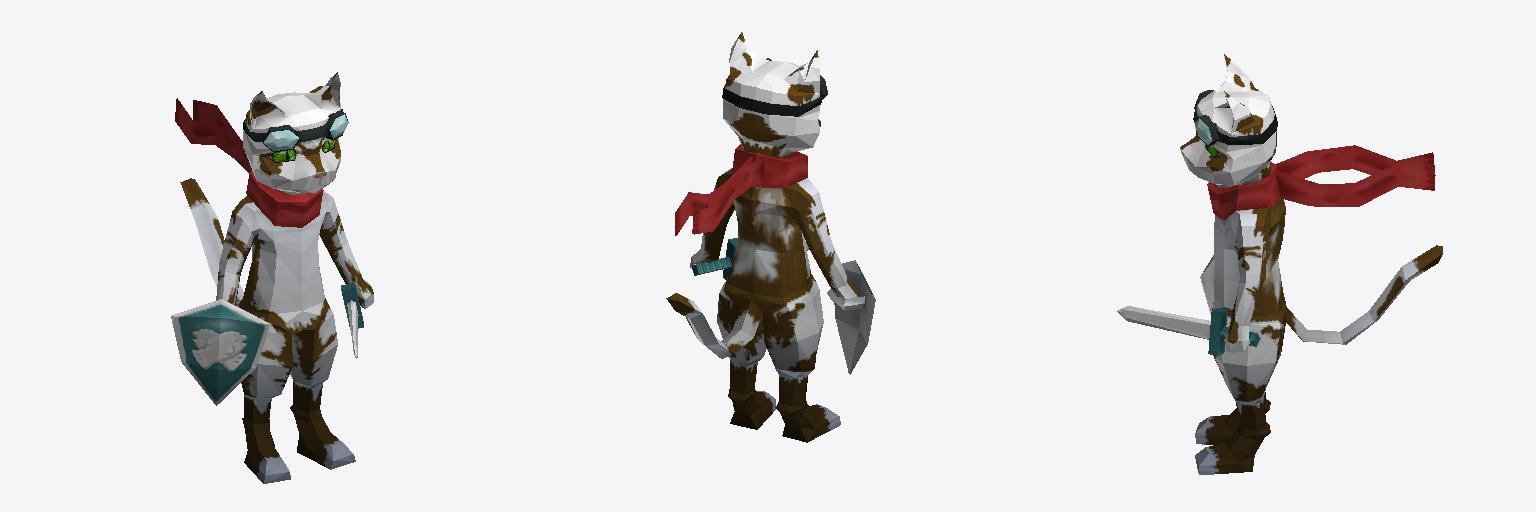
3 renders of one model, left to right at view 1: azimuth 30°, elevation 25°; view 2: azimuth 150°, elevation 25°; view 3: azimuth 270°, elevation 25°, orthographic.
Parts seen in each view (by area): view 1: Body, Shield, LeftLowerLeg, RightUpperLeg, LeftUpperLeg, RightLowerLeg, RightUpperArm, LeftLowerArm, Sword, RightLowerArm, LeftUpperArm; view 2: Body, RightUpperLeg, Shield, RightLowerLeg, LeftLowerLeg, LeftUpperLeg, RightUpperArm, RightLowerArm, LeftLowerArm, Sword; view 3: Body, LeftUpperLeg, LeftLowerLeg, Sword, LeftUpperArm, LeftLowerArm, RightLowerLeg.
Boxes of the visible parts, <box> form: Body: <box>175,72,348,334</box>; Shield: <box>171,299,270,405</box>; LeftLowerLeg: <box>290,381,355,469</box>; RightUpperLeg: <box>237,299,292,398</box>; LeftUpperLeg: <box>290,298,337,387</box>; RightLowerLeg: <box>242,396,290,483</box>; RightUpperArm: <box>221,201,259,266</box>; LeftLowerArm: <box>322,235,373,308</box>; Sword: <box>341,283,363,358</box>; RightLowerArm: <box>216,258,243,304</box>; LeftUpperArm: <box>319,190,344,244</box>; Body: <box>666,32,827,358</box>; RightUpperLeg: <box>763,274,823,377</box>; Shield: <box>827,260,875,374</box>; RightLowerLeg: <box>775,375,840,442</box>; LeftLowerLeg: <box>728,360,775,429</box>; LeftUpperLeg: <box>717,271,766,366</box>; RightUpperArm: <box>792,182,830,246</box>; RightLowerArm: <box>808,239,858,298</box>; LeftLowerArm: <box>690,220,728,267</box>; Sword: <box>692,238,808,279</box>; Body: <box>1180,54,1442,344</box>; LeftUpperLeg: <box>1213,312,1285,404</box>; LeftLowerLeg: <box>1195,398,1270,474</box>; Sword: <box>1117,306,1260,355</box>; LeftUpperArm: <box>1232,214,1269,274</box>; LeftLowerArm: <box>1224,274,1265,352</box>; RightLowerLeg: <box>1195,392,1270,444</box>.
Bounding box in the file's own units: 3.18 × 6.02 × 4.66.
Materials: 1 (1 with a texture image).